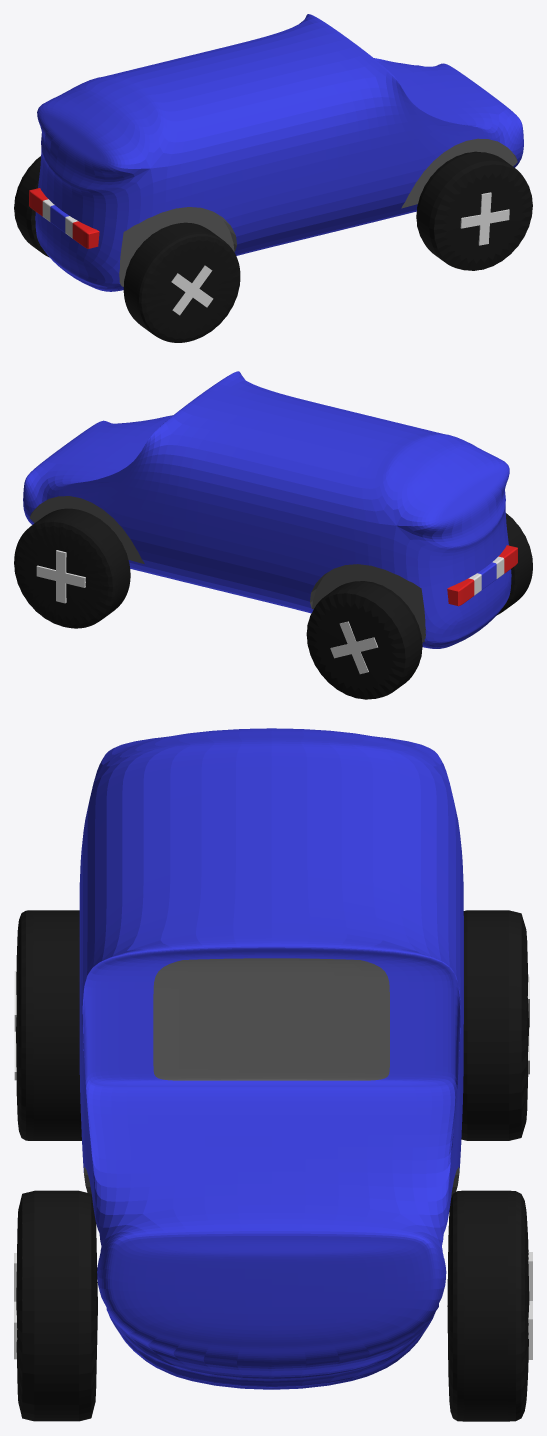
File: CartoonCar.fbx
3 renders of one model, top to bottom at view 1: azimuth 30°, elevation 25°; view 2: azimuth 150°, elevation 25°; view 3: azimuth 270°, elevation 25°, orthographic. The views are drawn at different scales.
Visible parts, largest first — view 1: CarBody, WheelRearRight, WheelFrontRight, WheelRearLeft; view 2: CarBody, WheelFrontLeft, WheelRearLeft, WheelRearRight; view 3: CarBody, WheelFrontLeft, WheelFrontRight, WheelRearLeft, WheelRearRight.
Boxes of the visible parts, x1,y1,x2,y2 form: CarBody: (29,14,523,291); WheelRearRight: (123,222,240,342); WheelFrontRight: (416,151,532,270); WheelRearLeft: (14,156,49,257); CarBody: (23,371,517,648); WheelFrontLeft: (14,508,130,628); WheelRearLeft: (306,581,422,699); WheelRearRight: (496,513,532,615); CarBody: (79,728,463,1389); WheelFrontLeft: (447,1190,532,1421); WheelFrontRight: (14,1190,97,1421); WheelRearLeft: (461,910,529,1140); WheelRearRight: (14,910,81,1140).
Size of the model in its own units: 170 by 317 by 144.
